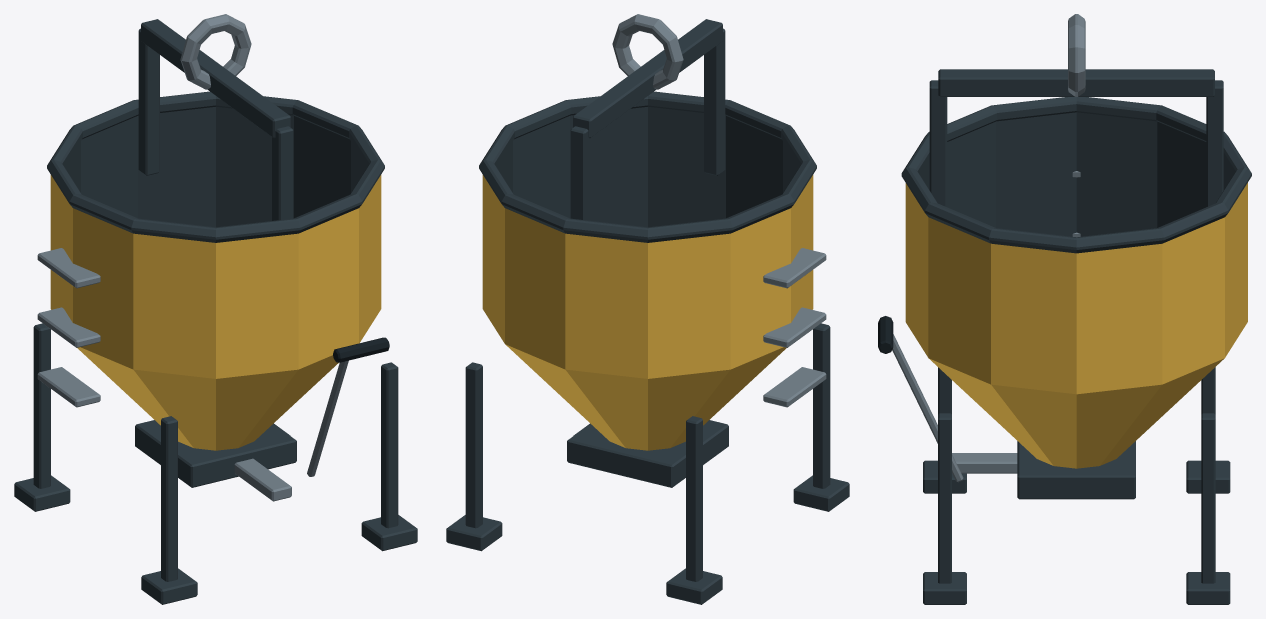
File: b07_crane_concrete_pouring_bucket.glb
3 renders of one model, left to right at view 1: azimuth 30°, elevation 25°; view 2: azimuth 150°, elevation 25°; view 3: azimuth 270°, elevation 25°, orthographic. The views are drawn at different scales.
Parts seen in each view (by area): view 1: b07_crane_concrete_pouring_bucket; view 2: b07_crane_concrete_pouring_bucket; view 3: b07_crane_concrete_pouring_bucket.
Part boxes in pixels (left/top/right/bottom): b07_crane_concrete_pouring_bucket: left=14, top=14, right=417, bottom=604; b07_crane_concrete_pouring_bucket: left=446, top=14, right=849, bottom=604; b07_crane_concrete_pouring_bucket: left=878, top=14, right=1251, bottom=604.
Size of the model in its own units: 1.67 by 2.62 by 1.7.
